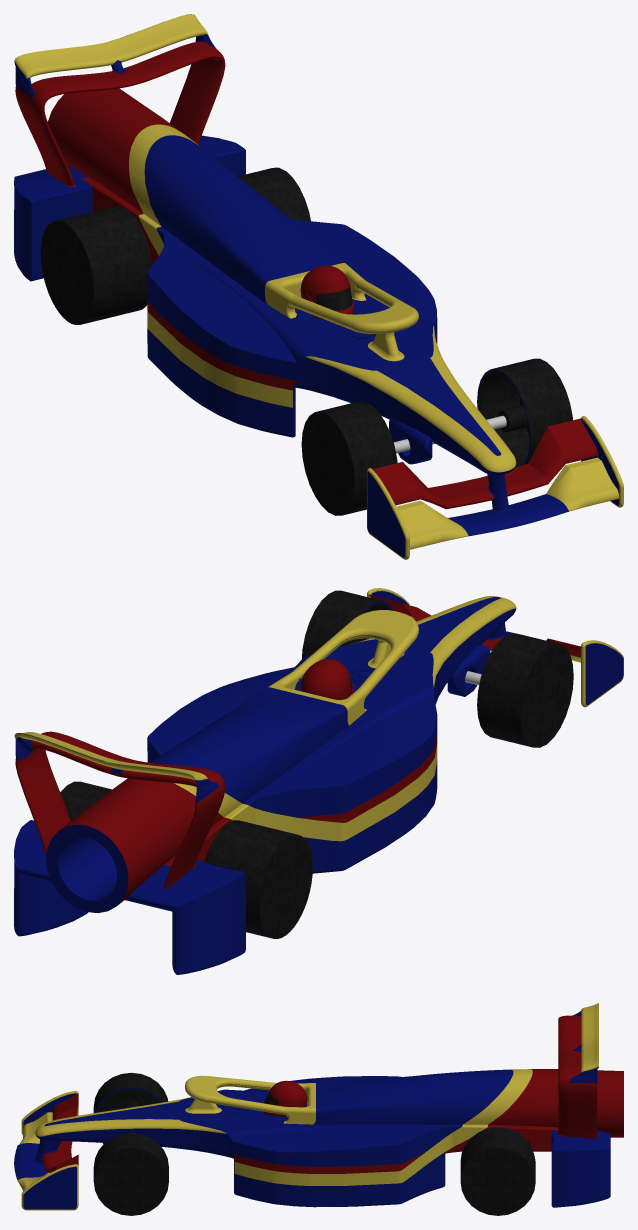
File: Kafur4.glb
3 renders of one model, top to bottom at view 1: azimuth 30°, elevation 25°; view 2: azimuth 150°, elevation 25°; view 3: azimuth 270°, elevation 25°, orthographic. The views are drawn at different scales.
Visible parts, largest first — view 1: coche+pintado.001; view 2: coche+pintado.001; view 3: coche+pintado.001.
Boxes of the visible parts, x1,y1,x2,y2 form: coche+pintado.001: (14,14,623,559); coche+pintado.001: (14,588,623,974); coche+pintado.001: (14,1003,623,1215).
Bounding box in the file's own units: 1.16 × 1.06 × 3.99.
Materials: 7 (1 with a texture image).
